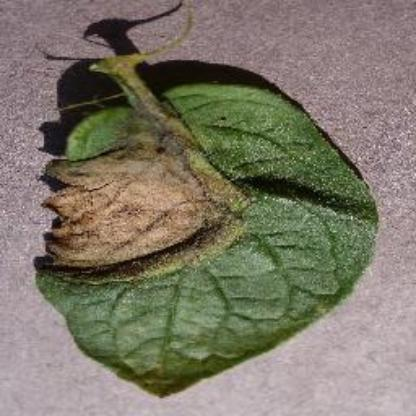Late-Blight: (31, 43, 385, 400)
